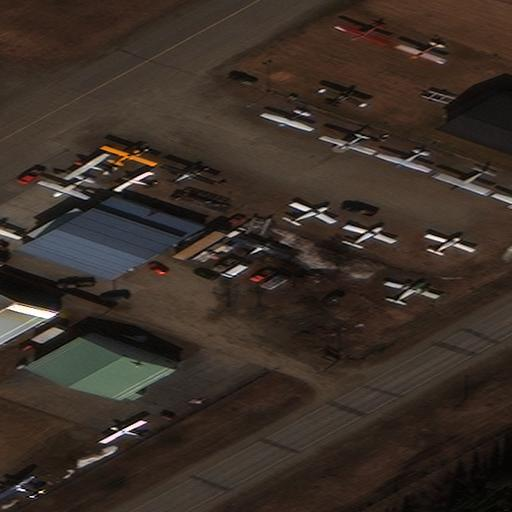Small Civil Transport: (430, 168, 486, 196), (103, 141, 159, 165), (36, 175, 87, 200), (64, 152, 111, 179), (346, 223, 396, 248), (374, 150, 428, 173), (385, 280, 440, 302), (96, 419, 144, 443), (317, 134, 371, 155), (258, 110, 309, 132), (161, 164, 219, 183), (289, 201, 339, 223), (335, 24, 387, 45), (427, 233, 475, 254), (395, 43, 441, 64), (110, 169, 154, 190), (0, 475, 38, 499), (321, 88, 368, 104), (0, 224, 23, 239)
